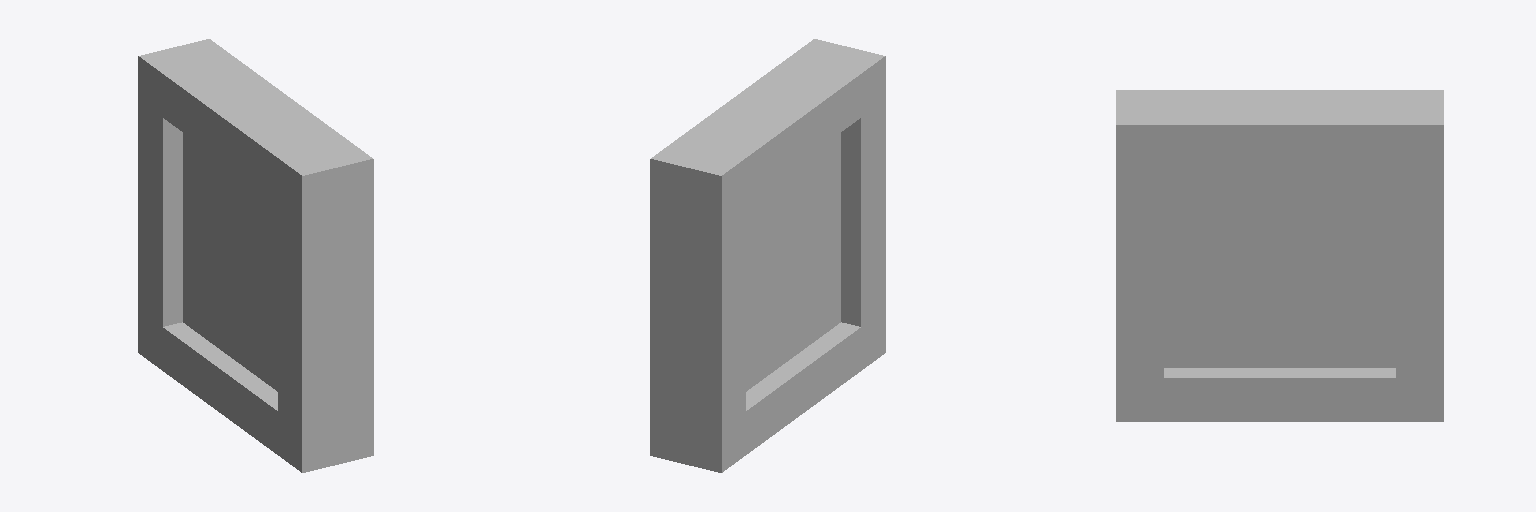
File: wall.obj
3 views of the same model, side by side, from view 1: azimuth 30°, elevation 25°; view 2: azimuth 150°, elevation 25°; view 3: azimuth 270°, elevation 25° (orthographic).
Size of the model in its own units: 0.5 by 2 by 2.